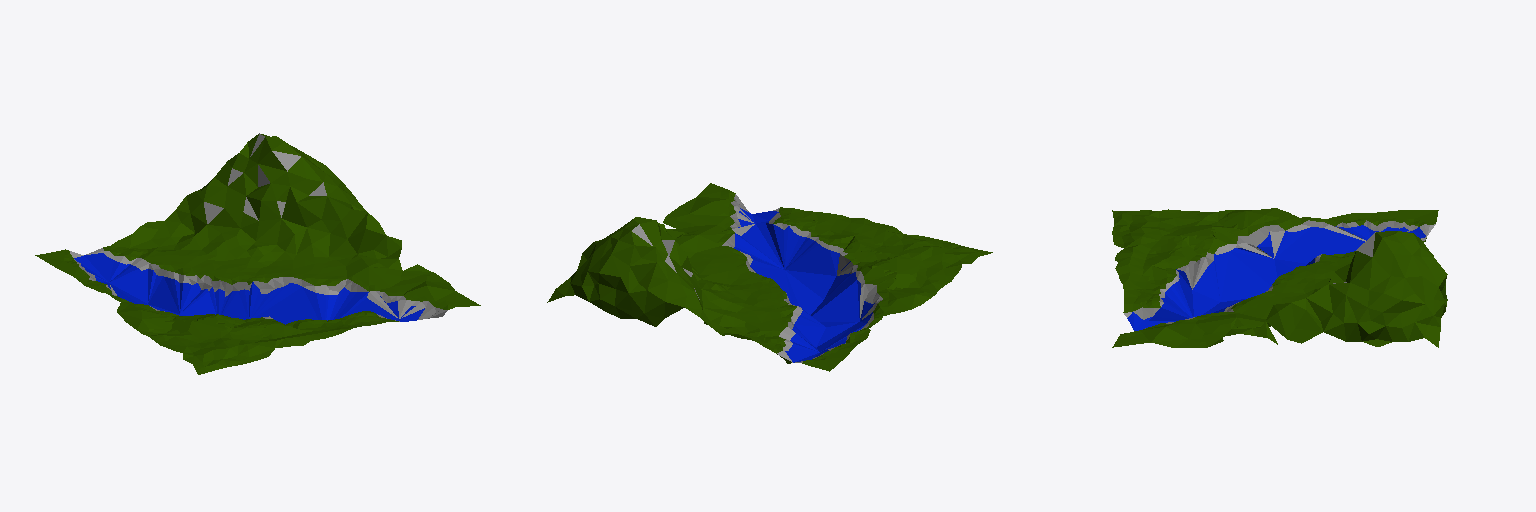
The picture shows the model from 3 angles: view 1: azimuth 30°, elevation 25°; view 2: azimuth 150°, elevation 25°; view 3: azimuth 270°, elevation 25°; orthographic projection.
Visible parts, largest first — view 1: Ground; view 2: Ground; view 3: Ground.
Part boxes in pixels (bbox=[...]): Ground: bbox=[35, 133, 480, 374]; Ground: bbox=[547, 183, 992, 371]; Ground: bbox=[1112, 208, 1447, 347].
Size of the model in its own units: 9.39 by 3.75 by 9.65.